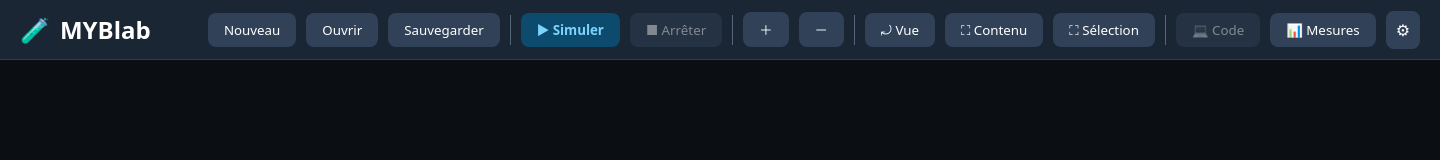
Test: MB-VIS-LAB-046 — Navbar : commandes existantes inchangées (O2, T19-T27) › T23 — "Simuler"/"Arrêter" conservent leur comportement (bascule simulationActive, disabled cohérent)
expect the button with class "stop" is disabled: met, box 630,12 -> 722,46
What coordinates should you click on to do the following:
click the button "▶ Simuler"
I would click on:
 (570, 30)
Its box is 521,12 -> 620,46.
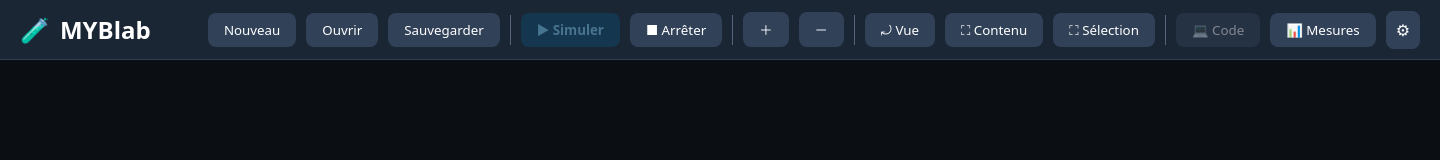
expect the button "▶ Simuler" is disabled: met, box 521,12 -> 620,46
expect the button with class "stop" is enabled: met
What coordinates should you click on to do the following:
click the button with class "stop"
I would click on:
 (676, 30)
Its box is 630,12 -> 722,46.
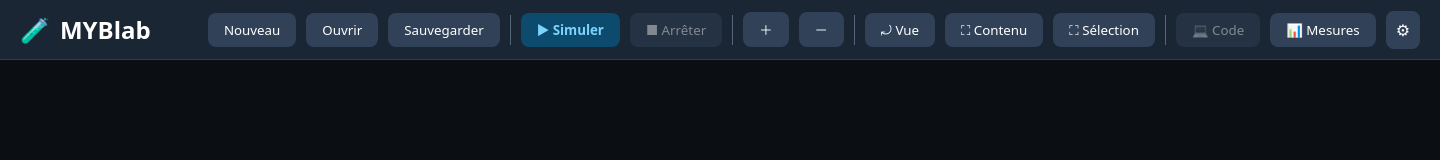
expect the button "▶ Simuler" is enabled: met, box 521,12 -> 620,46
expect the button with class "stop" is disabled: met, box 630,12 -> 722,46
